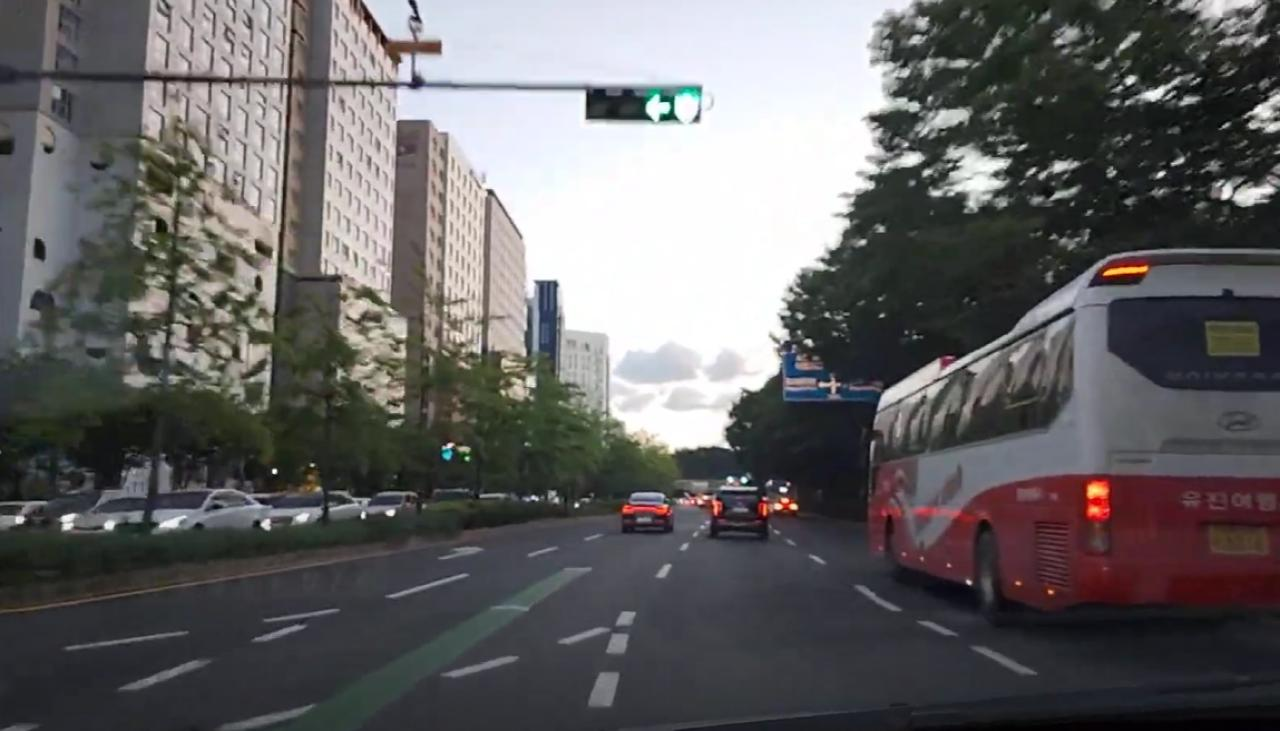Green Light: (674, 88, 701, 124)
Left turn: (638, 86, 674, 125)
